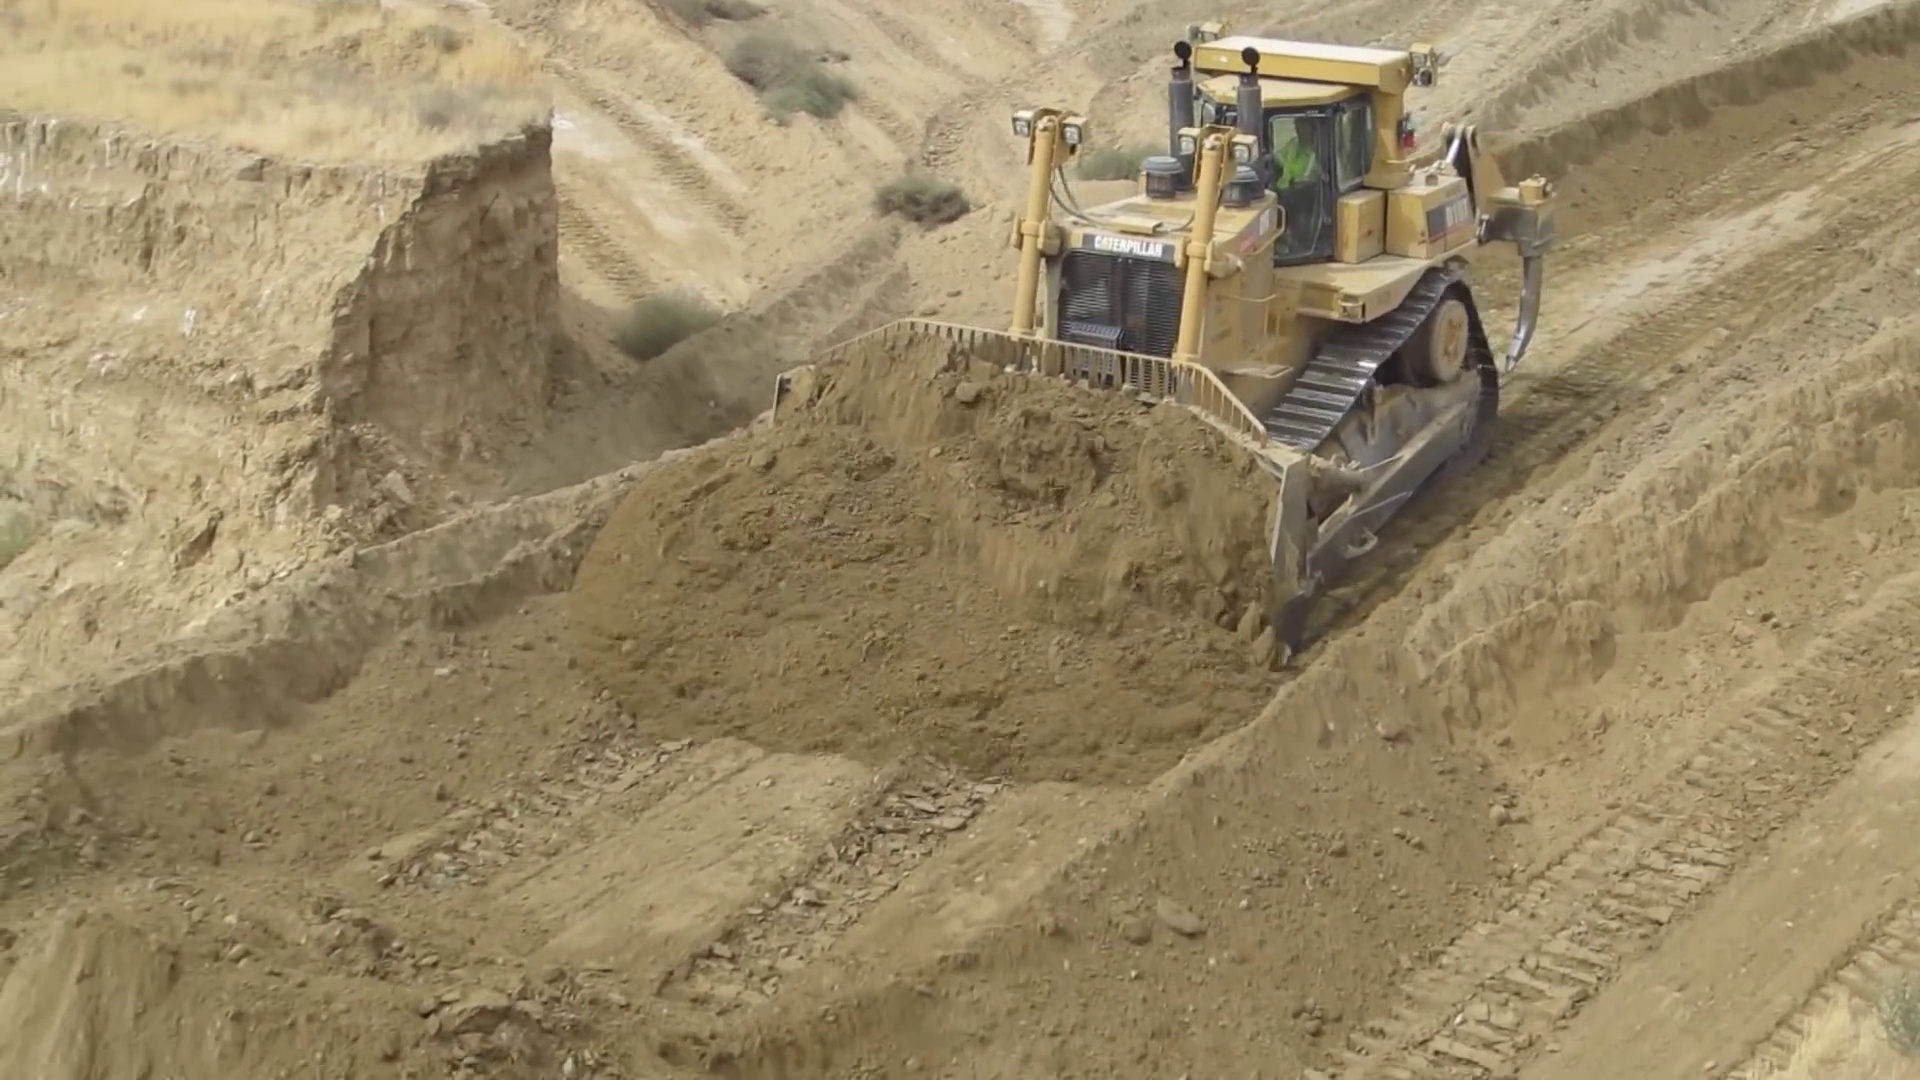bulldozer: (765, 29, 1557, 650)
